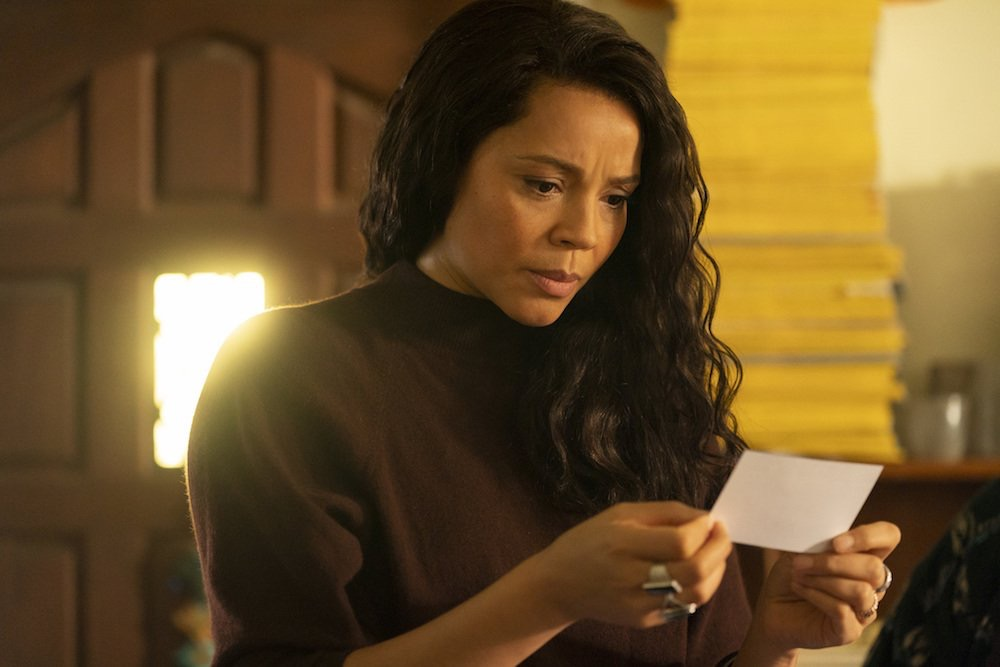person: (190, 11, 896, 663)
